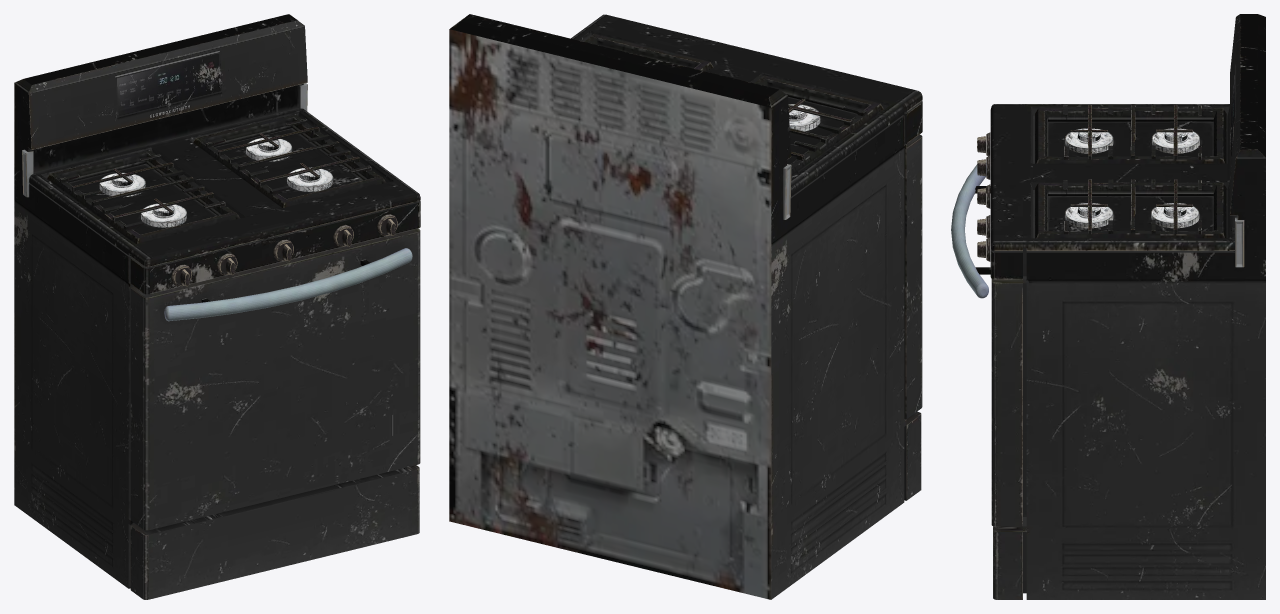
Rendered from coci_old_gas_stove_and_oven.glb.
3 renders of one model, left to right at view 1: azimuth 30°, elevation 25°; view 2: azimuth 150°, elevation 25°; view 3: azimuth 270°, elevation 25°, orthographic. The views are drawn at different scales.
Parts seen in each view (by area): view 1: Stove_Material_0; view 2: Stove_Material_0; view 3: Stove_Material_0.
Part boxes in pixels (x1,y1,x2,y2): Stove_Material_0: [14, 14, 420, 599]; Stove_Material_0: [449, 14, 922, 599]; Stove_Material_0: [951, 14, 1265, 599].
Bounding box in the file's own units: 0.6214 × 0.9 × 0.5739.
Materials: 1 (1 with a texture image).
